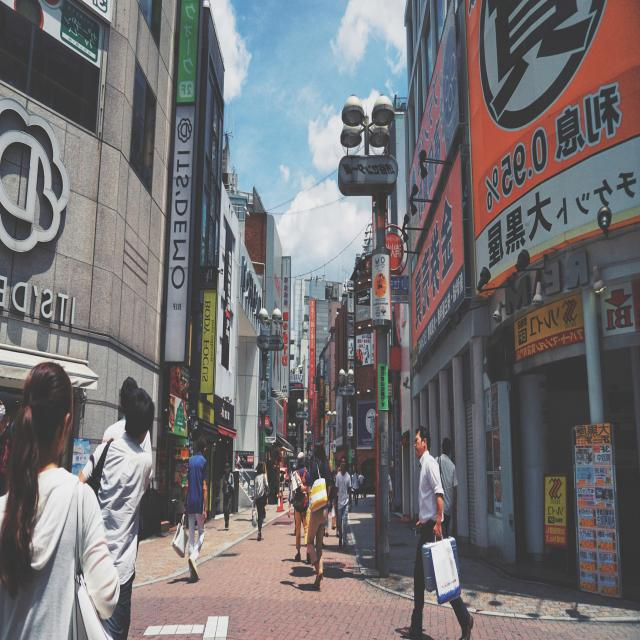adult: (0, 362, 121, 640), (404, 422, 474, 640), (305, 440, 333, 594), (184, 434, 210, 584), (334, 452, 352, 554), (252, 458, 269, 544), (220, 463, 236, 535)
